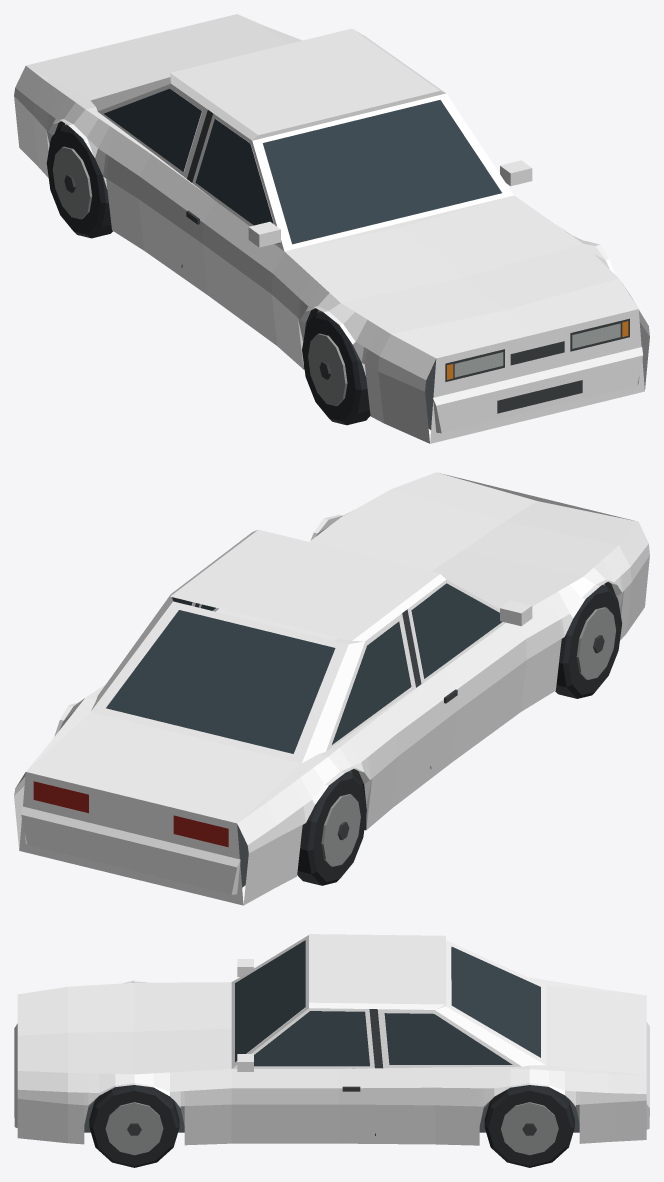
File: rauhe_fink_gx.glb
3 renders of one model, top to bottom at view 1: azimuth 30°, elevation 25°; view 2: azimuth 150°, elevation 25°; view 3: azimuth 270°, elevation 25°, orthographic. The views are drawn at different scales.
Visible parts, largest first — view 1: rauhe_fink_gx; view 2: rauhe_fink_gx; view 3: rauhe_fink_gx.
Part boxes in pixels (box(x1,y1,x2,y2)): rauhe_fink_gx: box(14, 14, 649, 443); rauhe_fink_gx: box(14, 472, 649, 905); rauhe_fink_gx: box(14, 934, 649, 1167).
Bounding box in the file's own units: 1.79 × 1.2 × 4.6.
8 materials, 1 textured.
